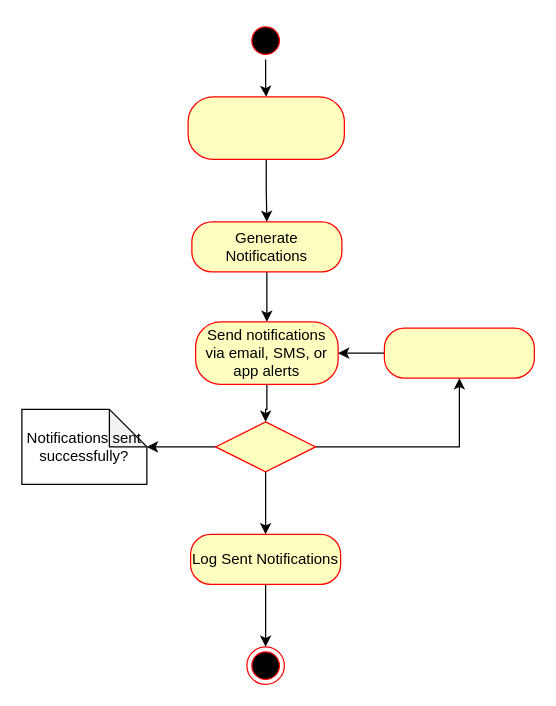
Image size: 556x706. Some labels were removed from this diagram. The centre of each missing label's shape, as x and y in pixels:
"Notification System identify triggering events" belongs at (265,127).
"Retry or alert administrators" belongs at (458,352).
